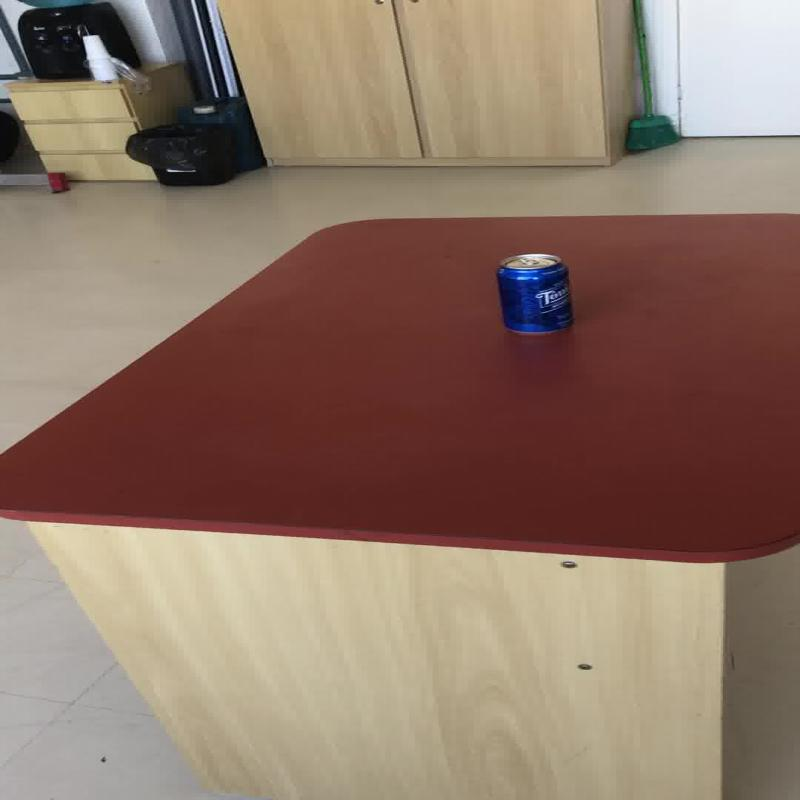tonic: (493, 252, 574, 335)
